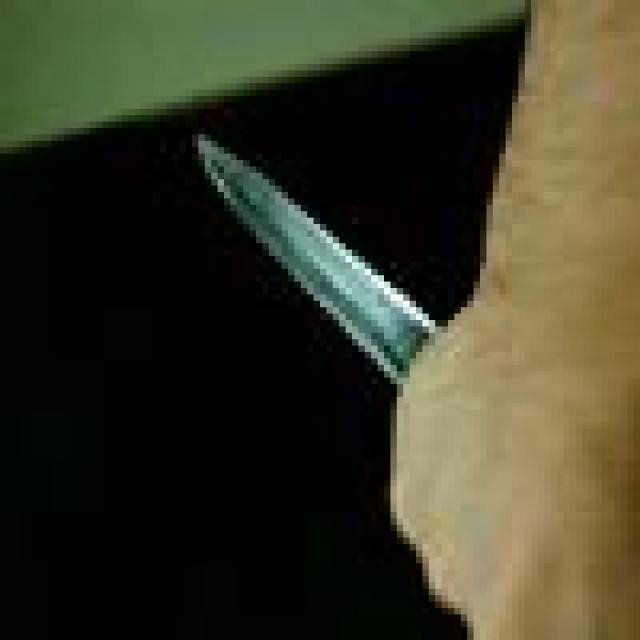knife: (196, 133, 409, 396)
